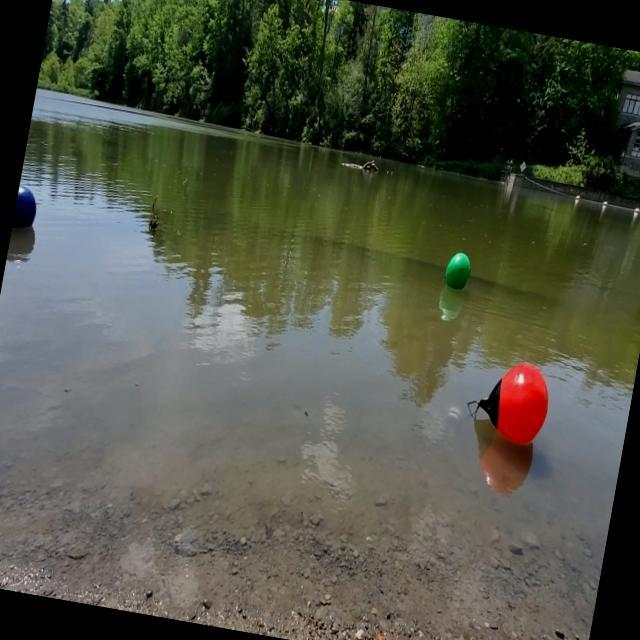buoy: (460, 350, 557, 454), (439, 246, 476, 293), (12, 183, 44, 229)
